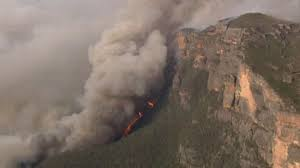fire: (124, 92, 158, 132)
smoke: (17, 1, 159, 129), (2, 133, 62, 168), (163, 3, 222, 38)
